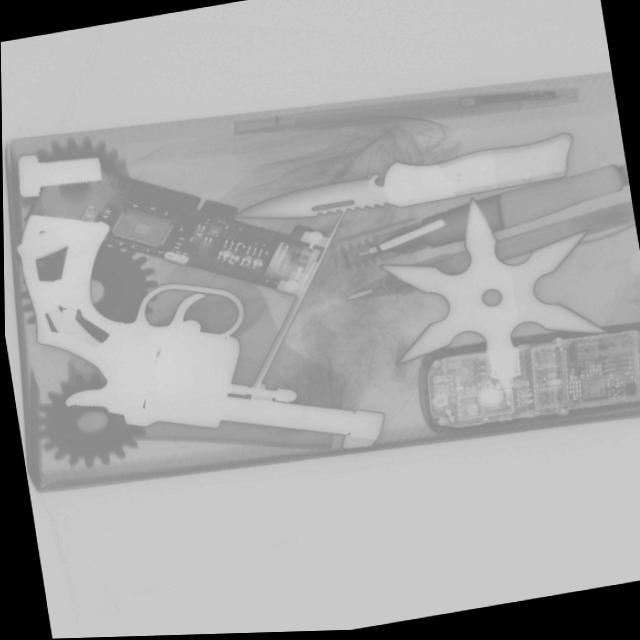knife: (236, 125, 583, 236)
pistol: (11, 164, 385, 501)
